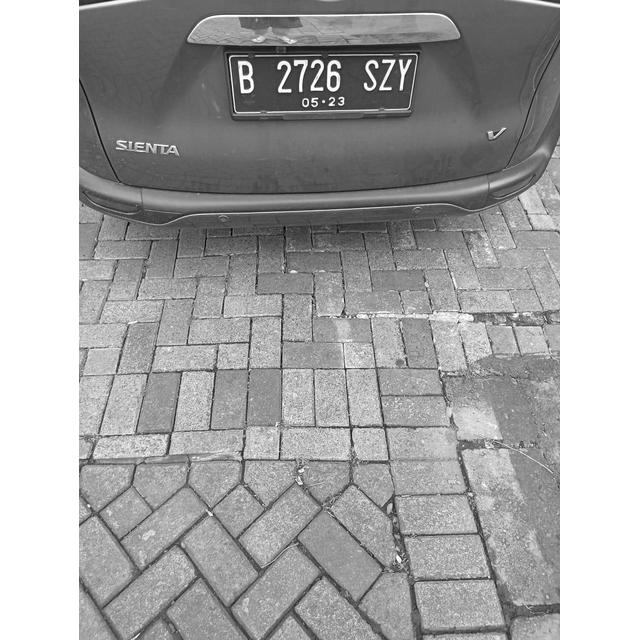license: (236, 57, 413, 106)
